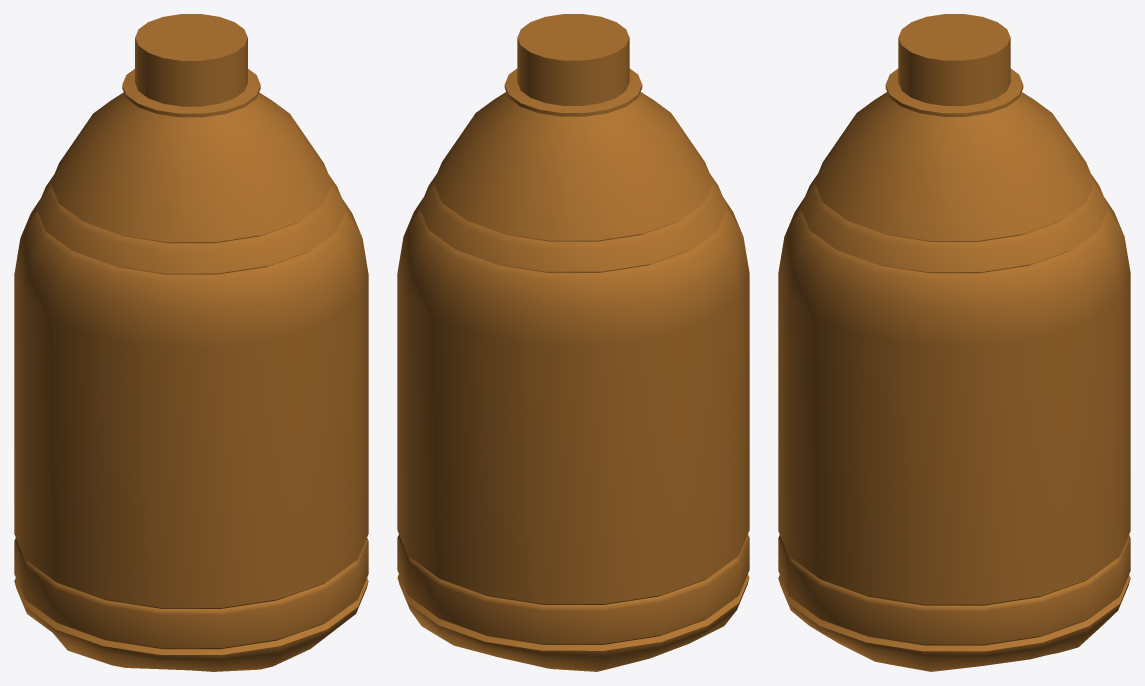
File: pet-body.glb
3 views of the same model, side by side, from view 1: azimuth 30°, elevation 25°; view 2: azimuth 150°, elevation 25°; view 3: azimuth 270°, elevation 25° (orthographic).
Parts seen in each view (by area): view 1: body; view 2: body; view 3: body.
Boxes of the visible parts, bbox=[...] form: body: bbox=[14, 14, 368, 671]; body: bbox=[397, 14, 749, 671]; body: bbox=[778, 14, 1130, 671].
Size of the model in its own units: 0.8666 by 1.61 by 0.88.
